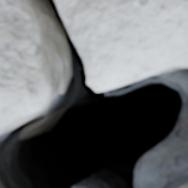broken_brick: (58, 0, 187, 92), (0, 0, 53, 136), (177, 184, 187, 187)
crack: (0, 0, 186, 187)
